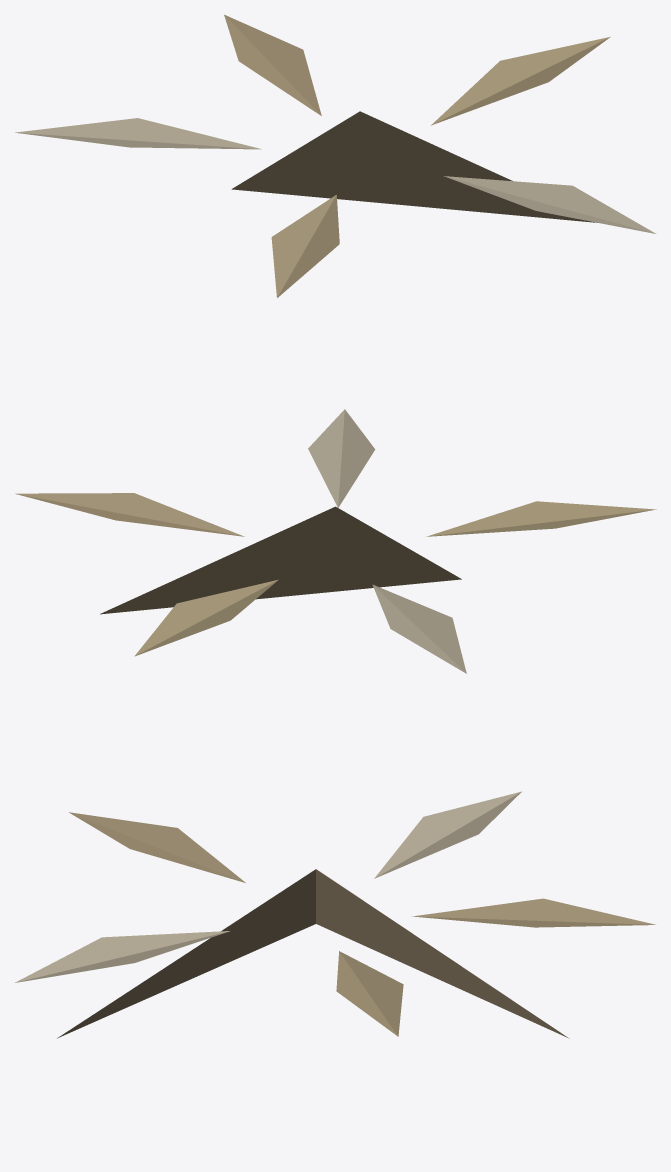
File: nong.dao@withered__autumn.glb
The picture shows the model from 3 angles, top to bottom: view 1: azimuth 30°, elevation 25°; view 2: azimuth 150°, elevation 25°; view 3: azimuth 270°, elevation 25°; orthographic projection. The views are drawn at different scales.
Parts seen in each view (by area): view 1: nong.dao@withered__autumn; view 2: nong.dao@withered__autumn; view 3: nong.dao@withered__autumn.
Part boxes in pixels (bbox=[...]): nong.dao@withered__autumn: bbox=[15, 14, 655, 297]; nong.dao@withered__autumn: bbox=[15, 409, 656, 673]; nong.dao@withered__autumn: bbox=[15, 791, 655, 1038].
Bounding box in the file's own units: 0.2722 × 0.084 × 0.2878.
